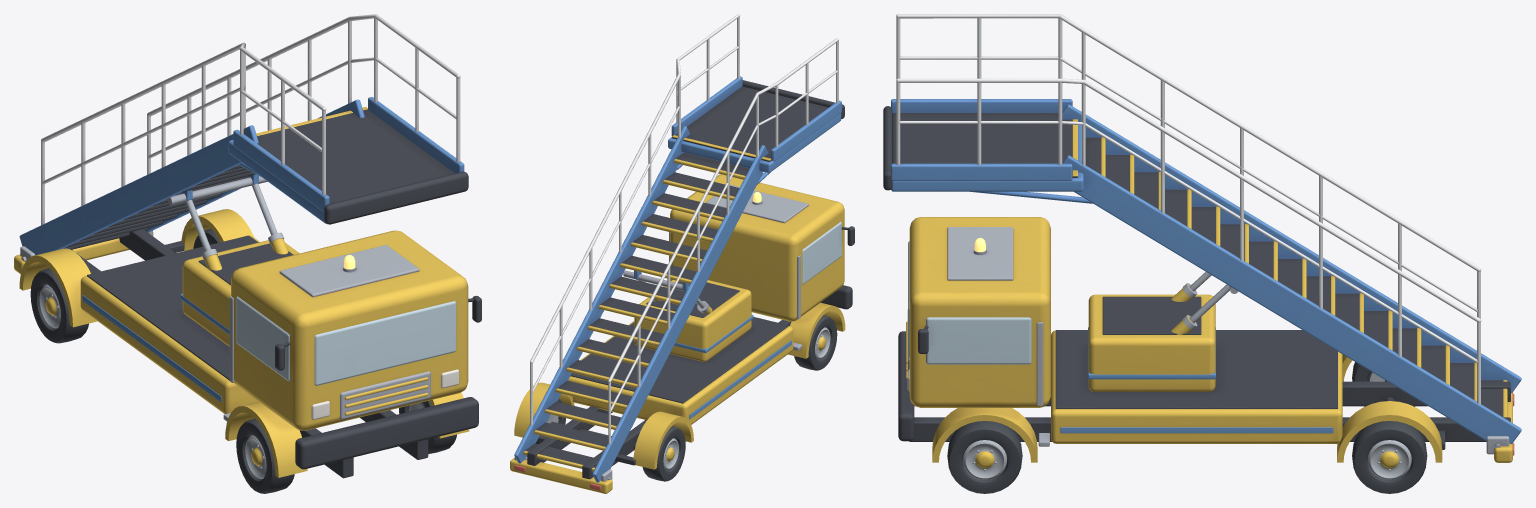
Rendered from airplane-stairs.glb.
3 views of the same model, side by side, from view 1: azimuth 30°, elevation 25°; view 2: azimuth 150°, elevation 25°; view 3: azimuth 270°, elevation 25° (orthographic). The views are drawn at different scales.
Visible parts, largest first — view 1: airplane-stairs_body, airplane-stairs_flight, airplane-stairs_wheel_fl, airplane-stairs_wheel_rl, airplane-stairs_wheel_fr; view 2: airplane-stairs_flight, airplane-stairs_body, airplane-stairs_wheel_fl, airplane-stairs_wheel_rl; view 3: airplane-stairs_body, airplane-stairs_flight, airplane-stairs_wheel_fr, airplane-stairs_wheel_rr.
Boxes of the visible parts, <box> form: airplane-stairs_body: <box>14,209,481,478</box>; airplane-stairs_flight: <box>19,14,468,270</box>; airplane-stairs_wheel_fl: <box>236,418,294,493</box>; airplane-stairs_wheel_rl: <box>30,268,88,343</box>; airplane-stairs_wheel_fr: <box>399,400,456,453</box>; airplane-stairs_flight: <box>514,14,844,482</box>; airplane-stairs_body: <box>510,174,854,493</box>; airplane-stairs_wheel_fl: <box>794,315,837,370</box>; airplane-stairs_wheel_rl: <box>642,426,685,481</box>; airplane-stairs_body: <box>898,217,1514,462</box>; airplane-stairs_flight: <box>883,14,1521,444</box>; airplane-stairs_wheel_fr: <box>947,421,1022,493</box>; airplane-stairs_wheel_rr: <box>1352,421,1427,493</box>.
Size of the model in its own units: 2.46 by 4.74 by 6.78.
15 materials, 2 textured.
